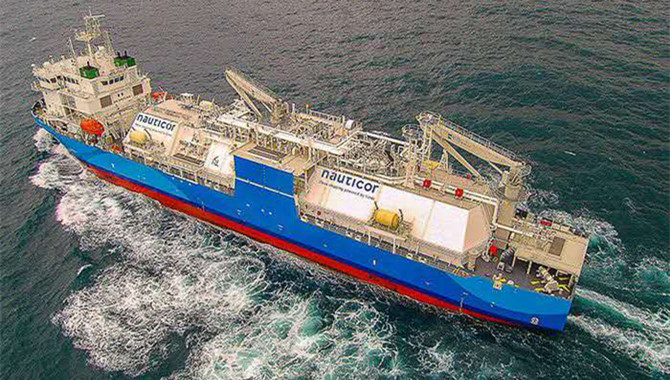Cargoship: (26, 3, 591, 333)
